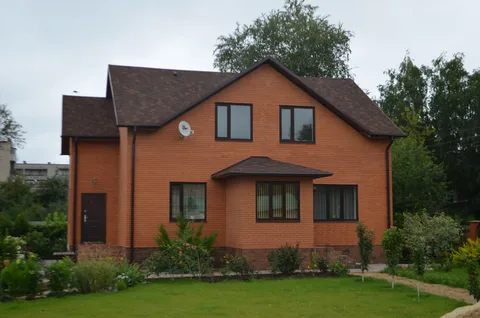private_hause: (48, 53, 402, 267)
